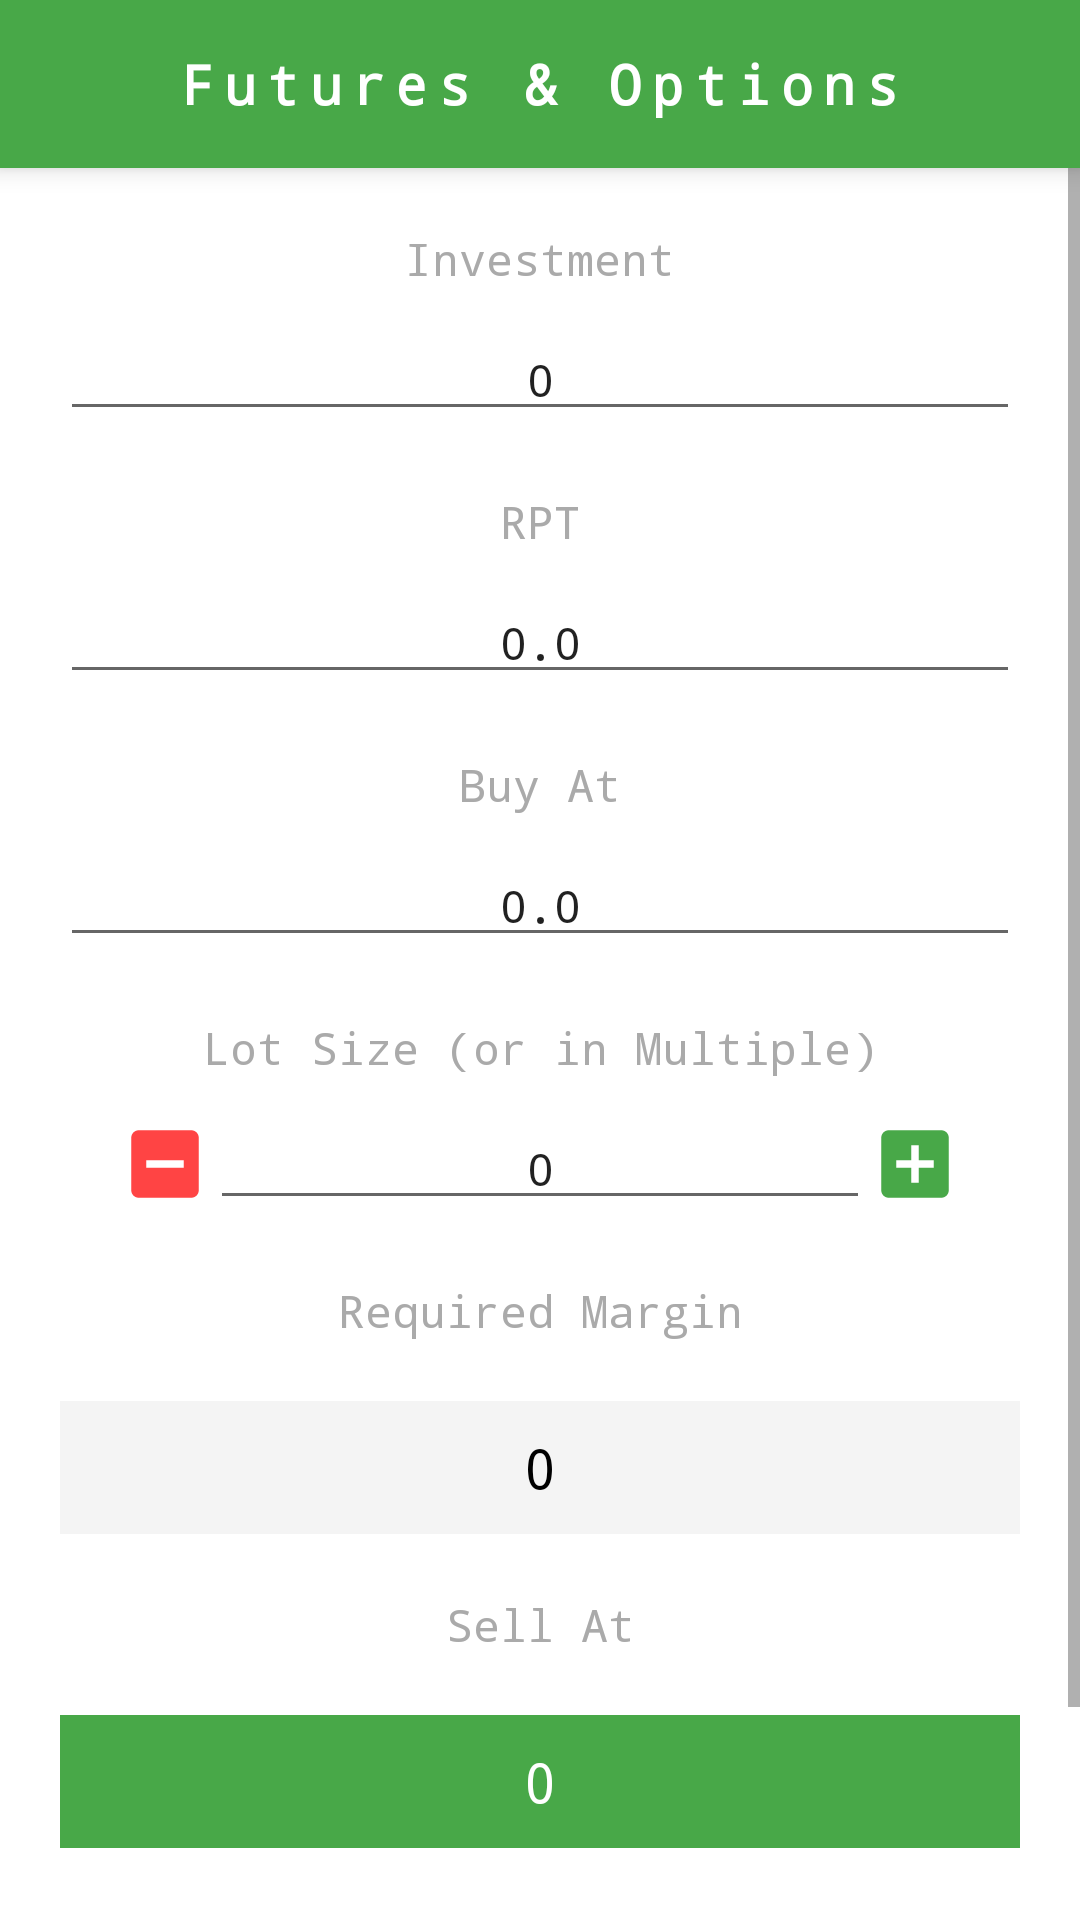

Where to tap for icons on this 1080 × 1920 app screen, as point (x, y):
add box: point (915, 1164)
indeterminate check box: point (165, 1164)
